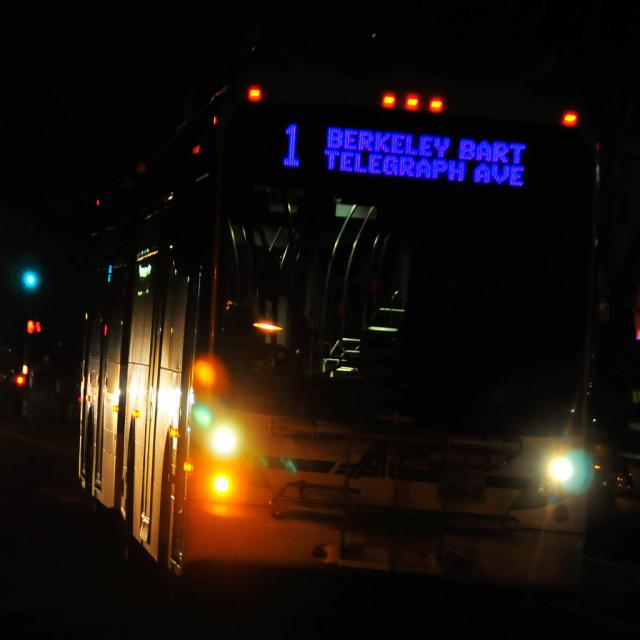Bus: (38, 88, 629, 614)
